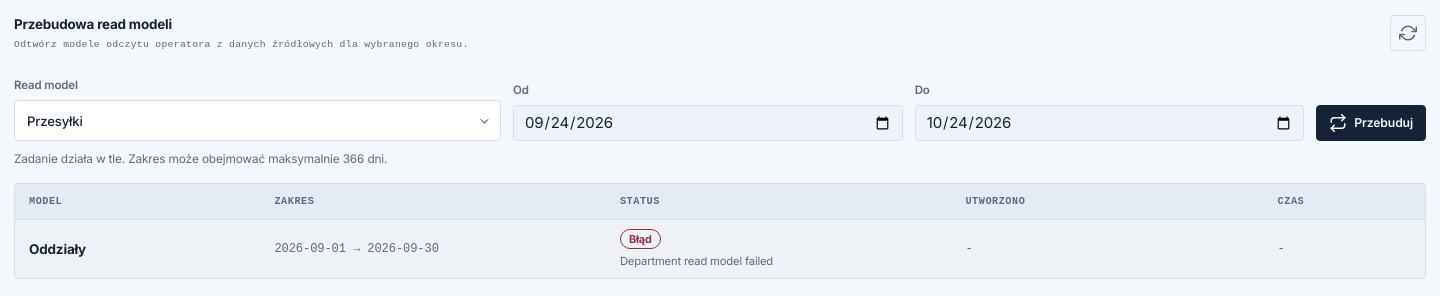
OperatorReadModelPanel › blocks inverted date range
Expected: the button "Przebuduj" is enabled, [1316, 105, 1426, 141]
Type "2026-10-17" into the date field labelled "Od" at {"x": 708, "y": 123}, box [513, 105, 903, 141]
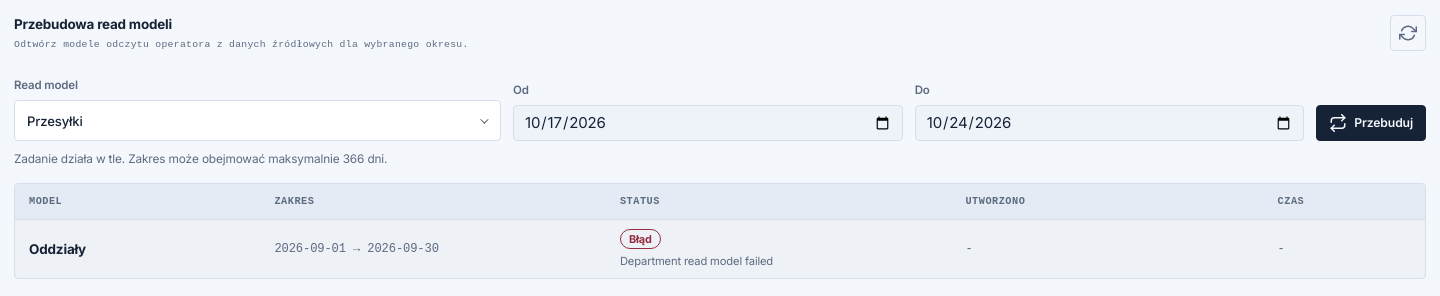
Type "2026-10-01" into the date field labelled "Do" at {"x": 1110, "y": 123}, box [915, 105, 1304, 141]
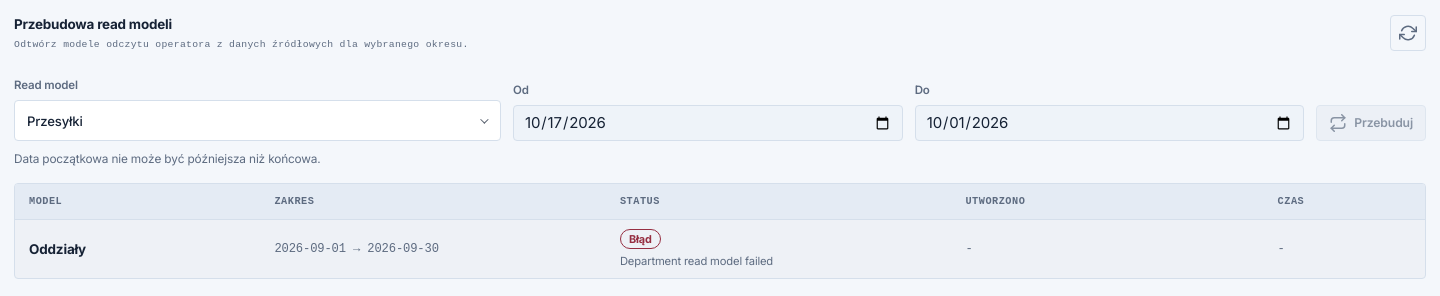
Now the button "Przebuduj" is disabled, box [1316, 105, 1426, 141]
Now the text "Data początkowa nie może być późniejsza niż końcowa." is shown, box [14, 152, 321, 166]
